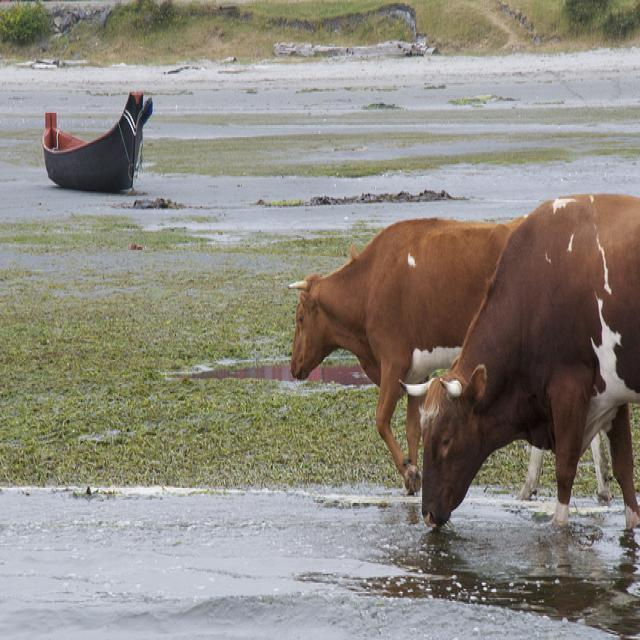cow: (395, 187, 639, 532), (286, 212, 525, 488)
